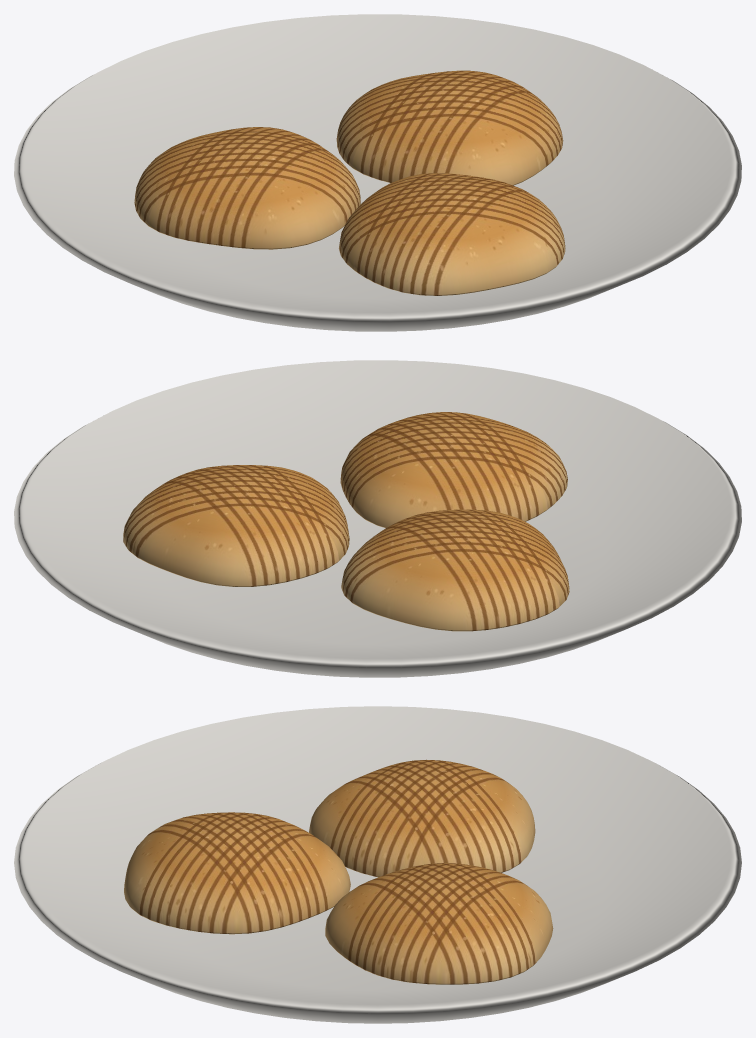
Rendered from criollos.glb.
3 views of the same model, one above another, from view 1: azimuth 30°, elevation 25°; view 2: azimuth 150°, elevation 25°; view 3: azimuth 270°, elevation 25° (orthographic).
Size of the model in its own units: 0.18 by 0.023 by 0.18.
Materials: 2 (1 with a texture image).
